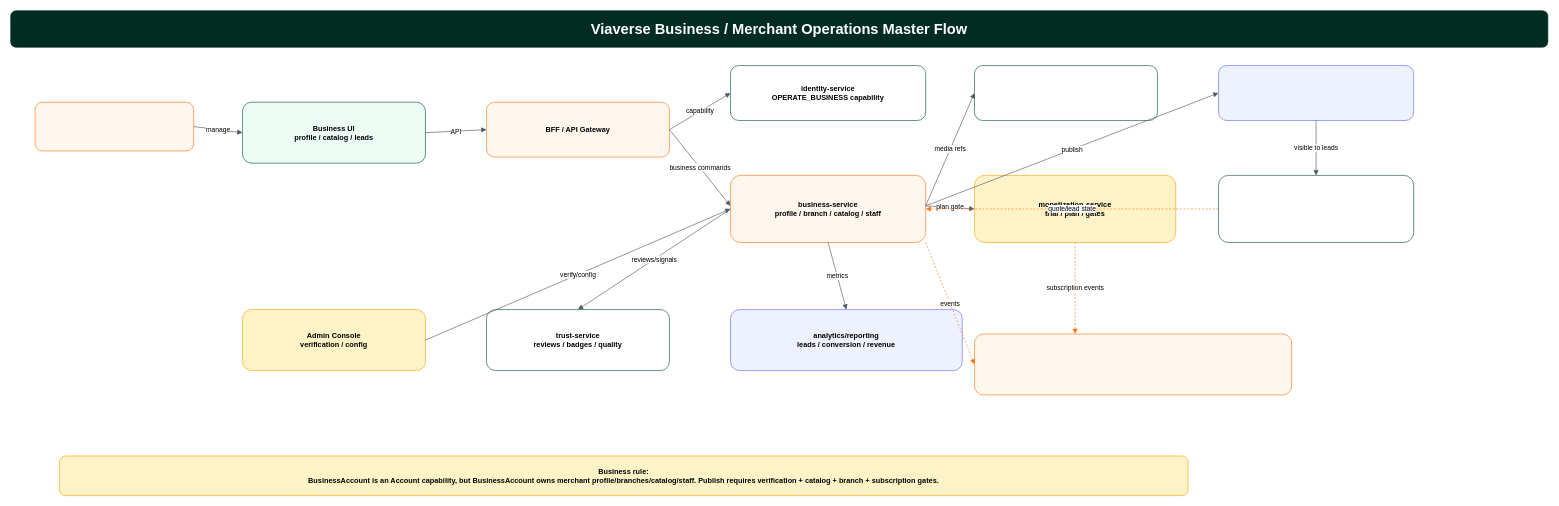
Image size: 1559x506. Some labels were removed from this diagram. The shapes that lost their labels are listed below. From the top down, each one's box as (x1, y1, x2, y2) in pixels, then its label:
(974, 65, 1157, 120): media-service logo / gallery / docs
(1218, 65, 1414, 120): search-service public business projection
(34, 102, 194, 151): Business Owner
(1218, 175, 1414, 242): marketplace-service lead routing / quotes
(974, 333, 1292, 395): Kafka / Outbox BusinessCreated / BusinessPublished / SubscriptionStarted
